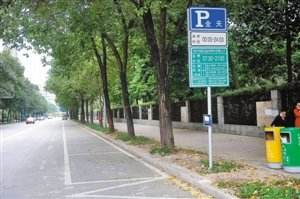slot_nocar: (57, 150, 169, 190), (58, 139, 135, 159), (59, 118, 106, 144)
